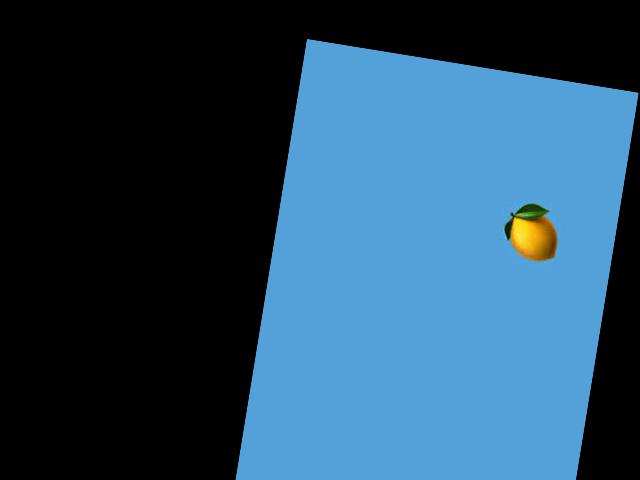lemon: (494, 197, 574, 278)
